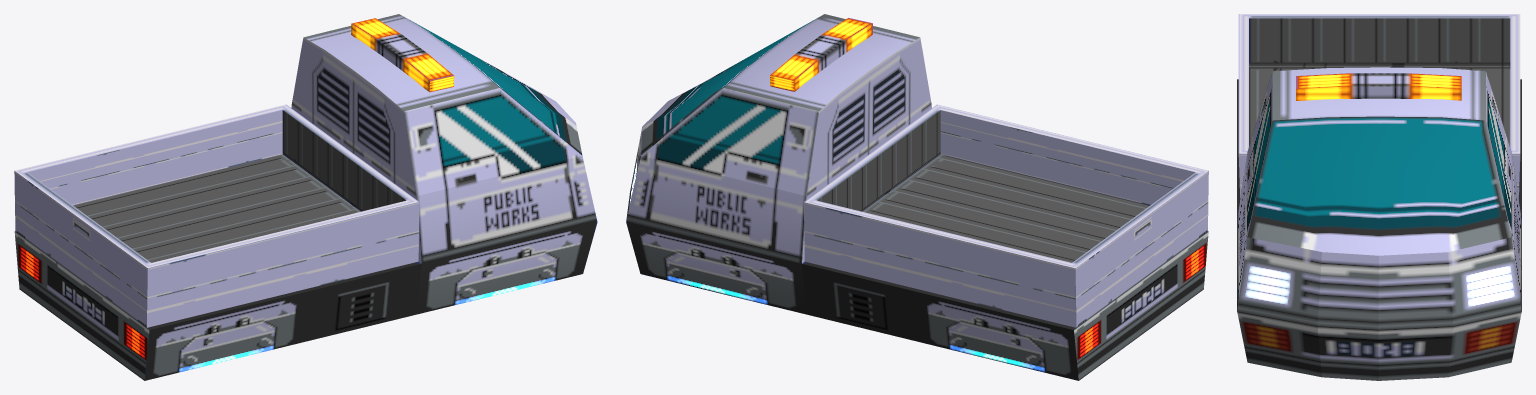
The model's file is publicWorks_truck.FBX.
3 views of the same model, side by side, from view 1: azimuth 30°, elevation 25°; view 2: azimuth 150°, elevation 25°; view 3: azimuth 270°, elevation 25° (orthographic). The views are drawn at different scales.
Visible parts, largest first — view 1: public_works, truck_bed; view 2: public_works, truck_bed; view 3: public_works, truck_bed.
Boxes of the visible parts, x1,y1,x2,y2 form: public_works: (14,14,597,380); truck_bed: (14,104,419,327); public_works: (626,14,1208,380); truck_bed: (804,104,1208,327); public_works: (1237,67,1521,380); truck_bed: (1238,14,1520,199).
Bounding box in the file's own units: 56.57 × 23.5 × 27.27.
Materials: 2 (2 with a texture image).
